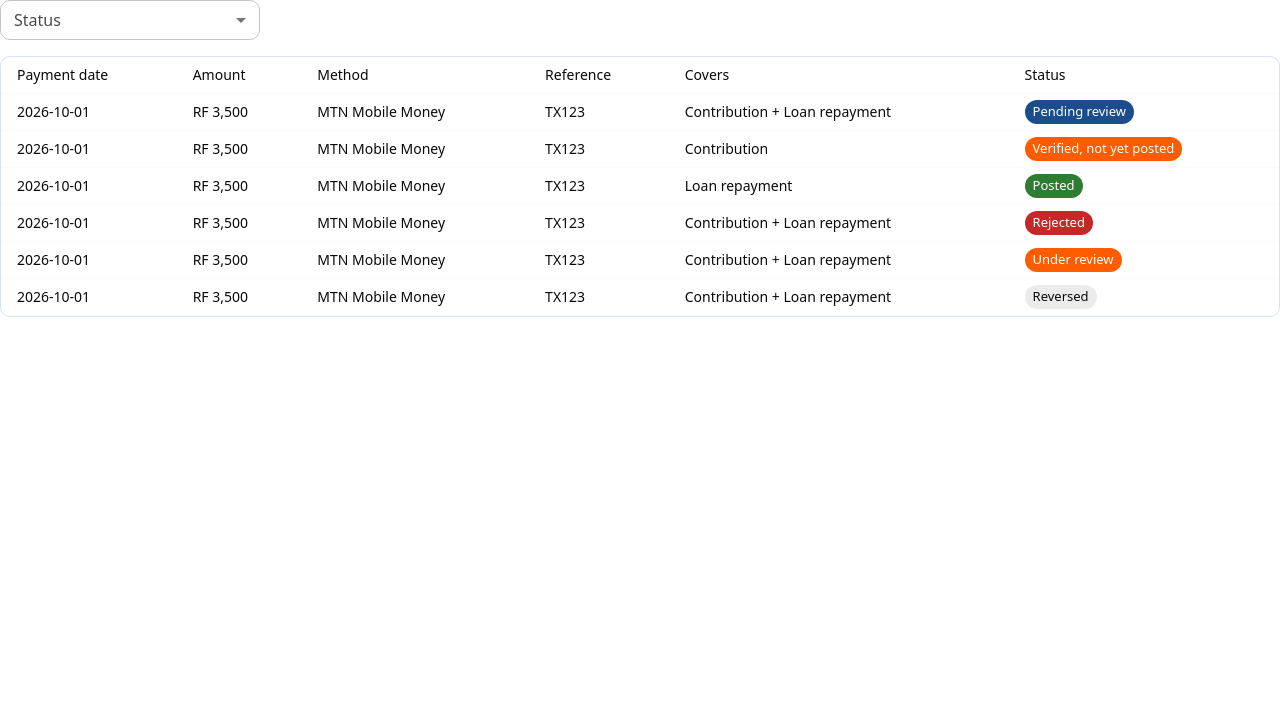
member payment history › shows posted only when the backend says posted, and never gives the member officer actions or posting data
Click the text "Posted".
click(1054, 185)  # box [1032,176,1074,194]
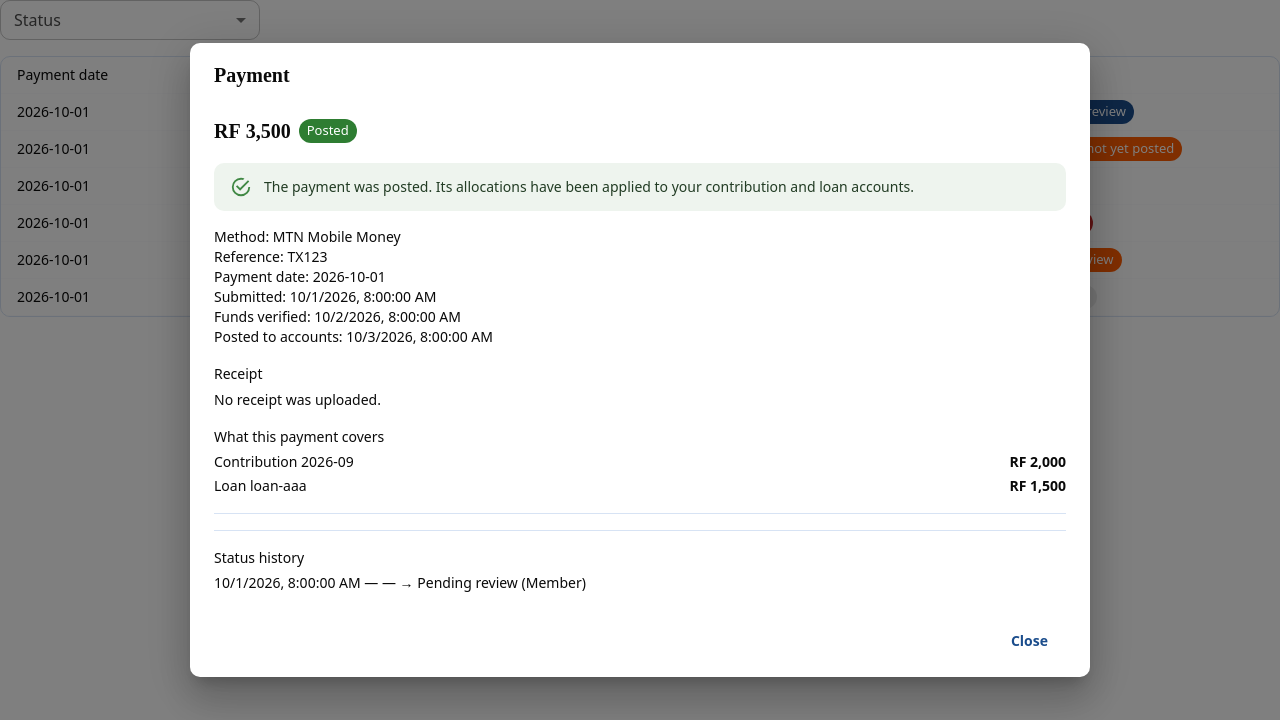
Now the message with test id "payment-status-notice" shows "The payment was posted", box [264,177,914,196]
Now the text "Posted to accounts: 10/3/2026, 8:00:00 AM" is shown, box [214,327,493,346]
